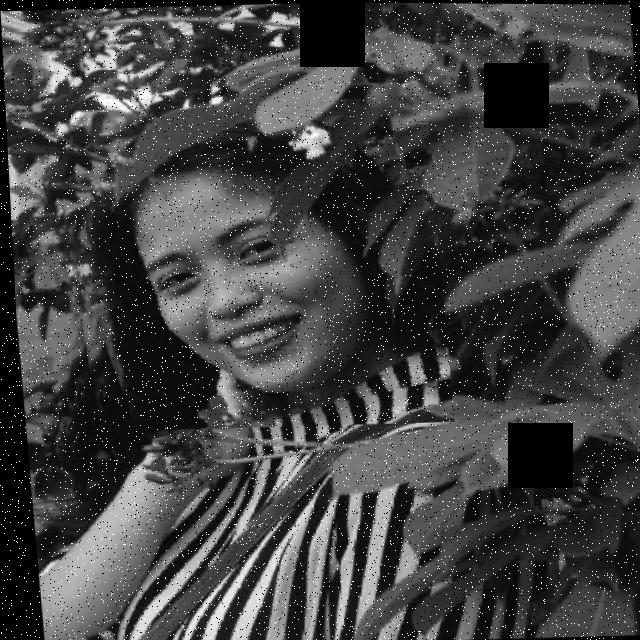happy: (47, 116, 451, 434)
